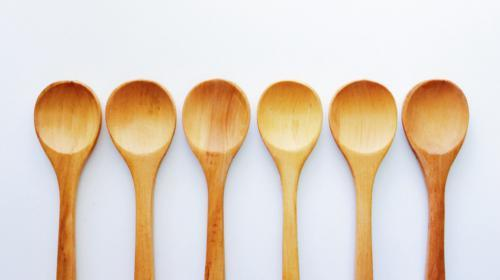Spoon: (106, 79, 178, 280), (33, 79, 103, 279), (328, 79, 398, 279), (182, 79, 251, 279), (402, 79, 470, 280), (256, 79, 323, 280)
